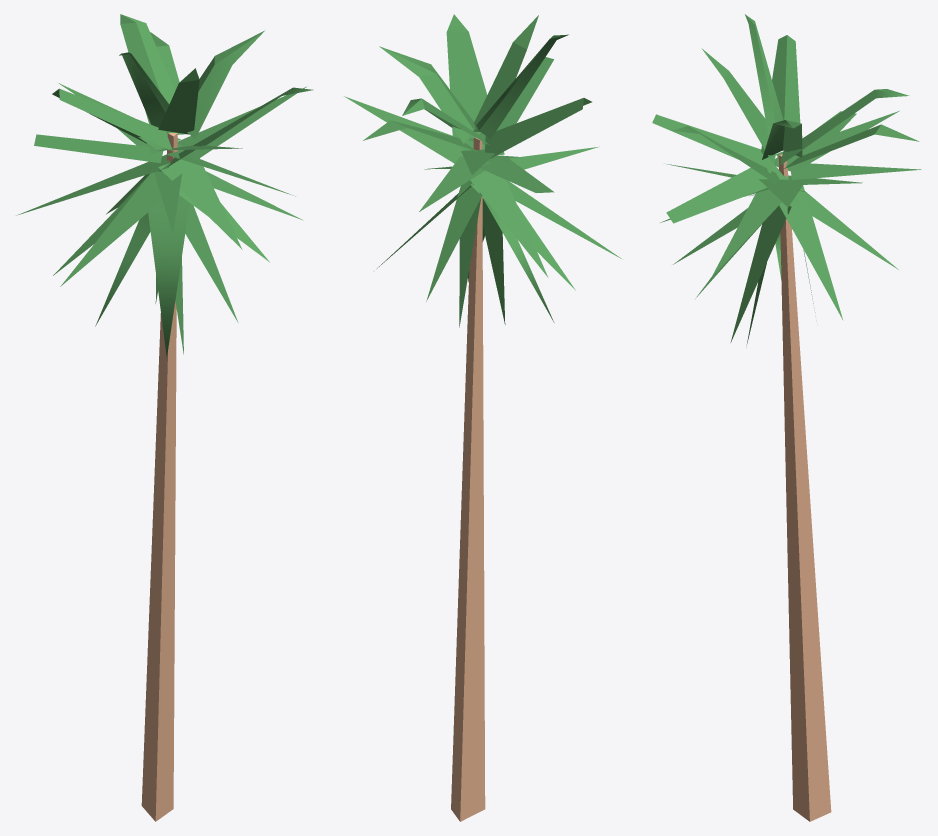
Rendered from tree_palm_coco_D_LOD3.fbx.
3 renders of one model, left to right at view 1: azimuth 30°, elevation 25°; view 2: azimuth 150°, elevation 25°; view 3: azimuth 270°, elevation 25°, orthographic. The views are drawn at different scales.
Parts seen in each view (by area): view 1: trunk_coco_D, leaf_cocotree_D_31, leaf_cocotree_D_24, leaf_cocotree_D_22, leaf_cocotree_D_5, leaf_cocotree_D_6, leaf_cocotree_D_32, leaf_cocotree_D_16, leaf_cocotree_D_3, leaf_cocotree_D_11, leaf_cocotree_D_1, leaf_cocotree_D_28 (+8 smaller); view 2: trunk_coco_D, leaf_cocotree_D_7, leaf_cocotree_D_17, leaf_cocotree_D_6, leaf_cocotree_D_32, leaf_cocotree_D_1, leaf_cocotree_D_34, leaf_cocotree_D_3, leaf_cocotree_D_11, leaf_cocotree_D_30, leaf_cocotree_D_16, leaf_cocotree_D_27 (+8 smaller); view 3: trunk_coco_D, leaf_cocotree_D_33, leaf_cocotree_D_20, leaf_cocotree_D_32, leaf_cocotree_D_28, leaf_cocotree_D_8, leaf_cocotree_D_25, leaf_cocotree_D_1, leaf_cocotree_D_3, leaf_cocotree_D_5, leaf_cocotree_D_13, leaf_cocotree_D_6 (+6 smaller).
Part boxes in pixels (box(x1,y1,x2,y2)): trunk_coco_D: box(141, 133, 177, 821); leaf_cocotree_D_31: box(148, 195, 189, 357); leaf_cocotree_D_24: box(158, 158, 242, 249); leaf_cocotree_D_22: box(60, 172, 162, 286); leaf_cocotree_D_5: box(120, 14, 175, 133); leaf_cocotree_D_6: box(187, 30, 264, 138); leaf_cocotree_D_32: box(52, 88, 172, 151); leaf_cocotree_D_16: box(34, 134, 163, 163); leaf_cocotree_D_3: box(158, 68, 199, 134); leaf_cocotree_D_11: box(177, 86, 306, 160); leaf_cocotree_D_1: box(119, 52, 169, 127); leaf_cocotree_D_28: box(185, 203, 238, 322); trunk_coco_D: box(451, 137, 485, 821); leaf_cocotree_D_7: box(446, 14, 504, 154); leaf_cocotree_D_17: box(470, 170, 548, 277); leaf_cocotree_D_6: box(379, 46, 475, 143); leaf_cocotree_D_32: box(485, 98, 591, 158); leaf_cocotree_D_1: box(476, 34, 568, 139); leaf_cocotree_D_34: box(426, 180, 482, 301); leaf_cocotree_D_3: box(473, 15, 538, 131); leaf_cocotree_D_11: box(344, 96, 463, 163); leaf_cocotree_D_30: box(482, 198, 505, 324); leaf_cocotree_D_16: box(480, 156, 554, 192); leaf_cocotree_D_27: box(459, 198, 481, 327); trunk_coco_D: box(778, 154, 831, 821); leaf_cocotree_D_33: box(666, 164, 789, 223); leaf_cocotree_D_20: box(779, 185, 843, 320); leaf_cocotree_D_32: box(761, 35, 800, 154); leaf_cocotree_D_28: box(730, 205, 791, 342); leaf_cocotree_D_8: box(652, 114, 775, 173); leaf_cocotree_D_25: box(711, 189, 781, 277); leaf_cocotree_D_1: box(745, 14, 783, 136); leaf_cocotree_D_3: box(701, 48, 775, 162); leaf_cocotree_D_5: box(780, 89, 909, 165); leaf_cocotree_D_13: box(791, 163, 921, 179); leaf_cocotree_D_6: box(762, 120, 802, 159).
Bounding box in the file's own units: 433 × 1224 × 393.
